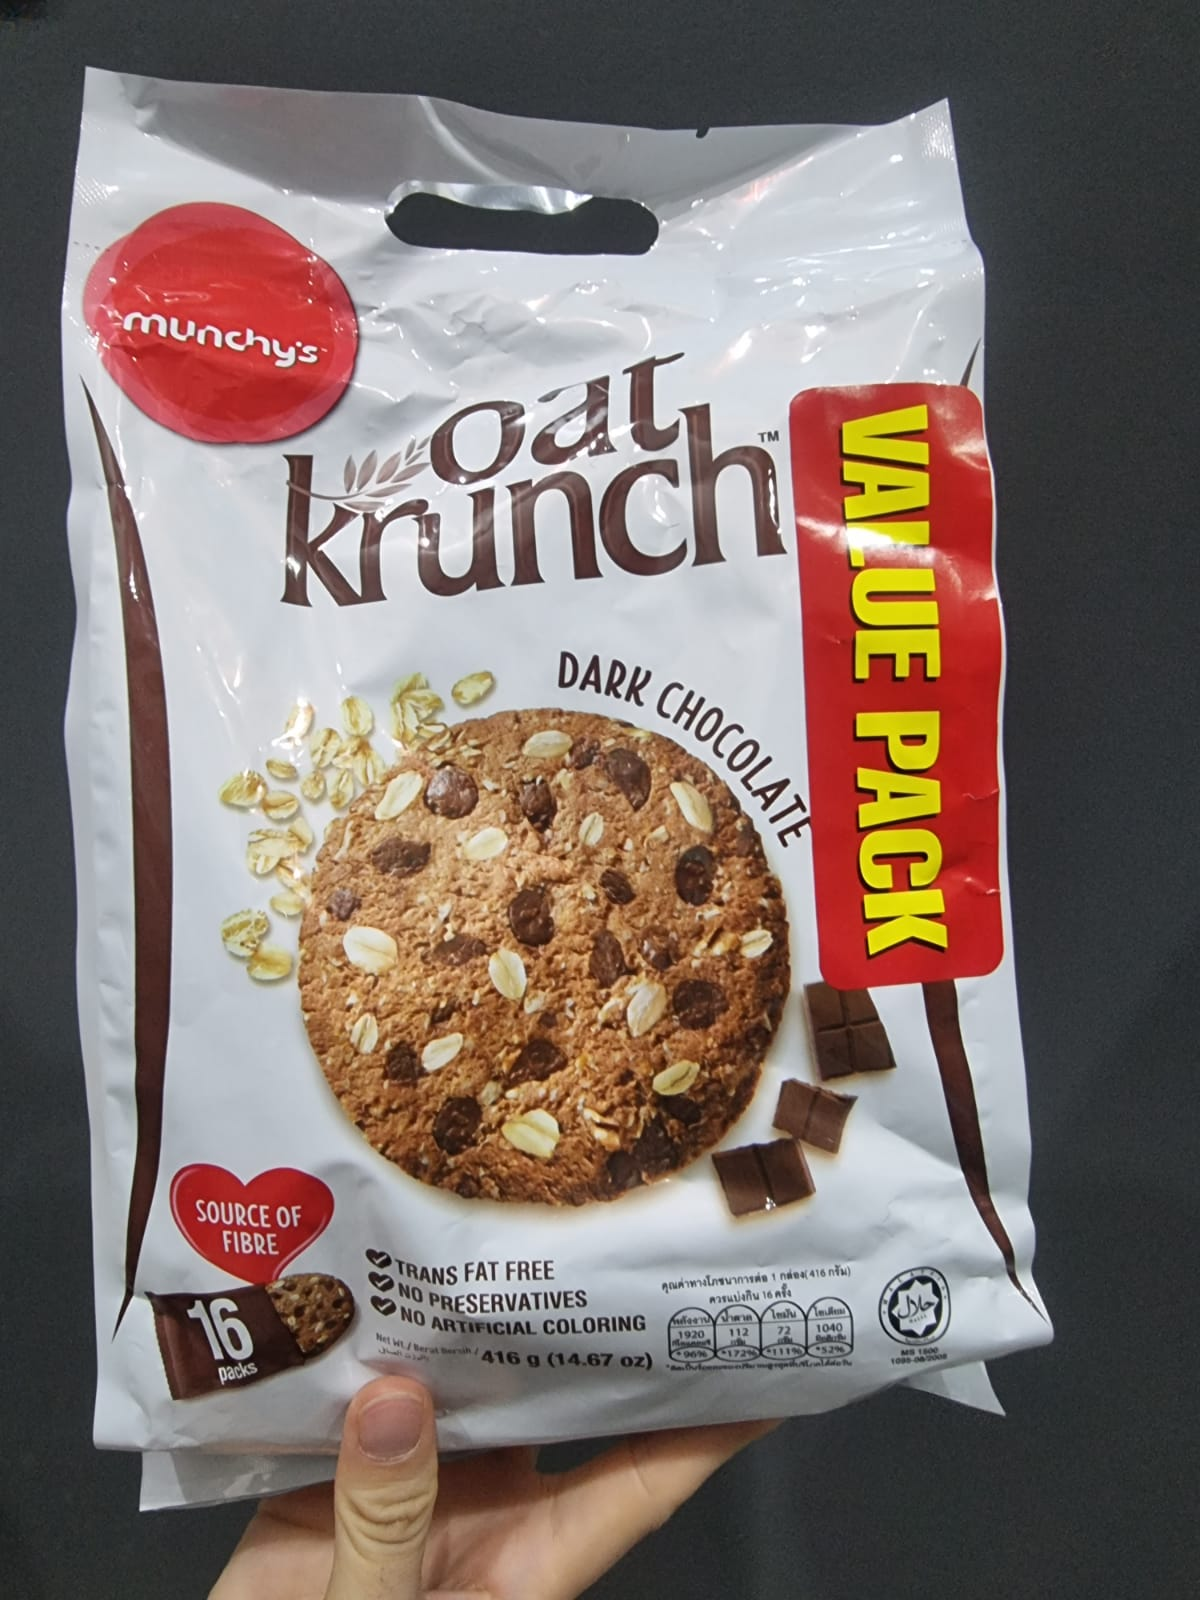Biscuits: (105, 207, 997, 1388)
